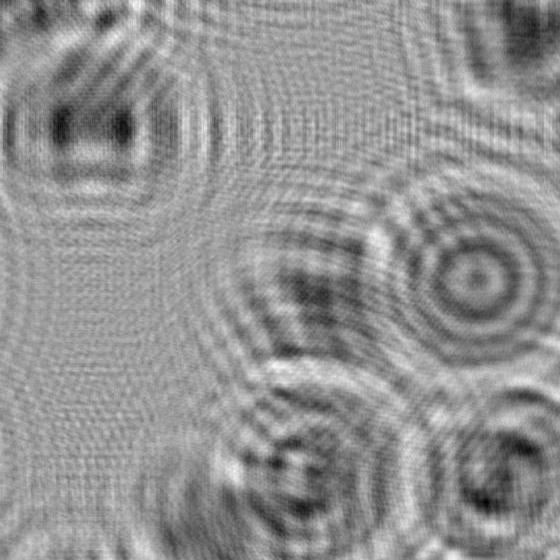A: (395, 0, 560, 142)
E: (0, 28, 245, 230)
G: (202, 348, 445, 560)
N: (0, 0, 184, 104)
O: (360, 154, 560, 400)
S: (372, 361, 560, 560)
V: (171, 186, 424, 406)
Y: (40, 395, 314, 560)
